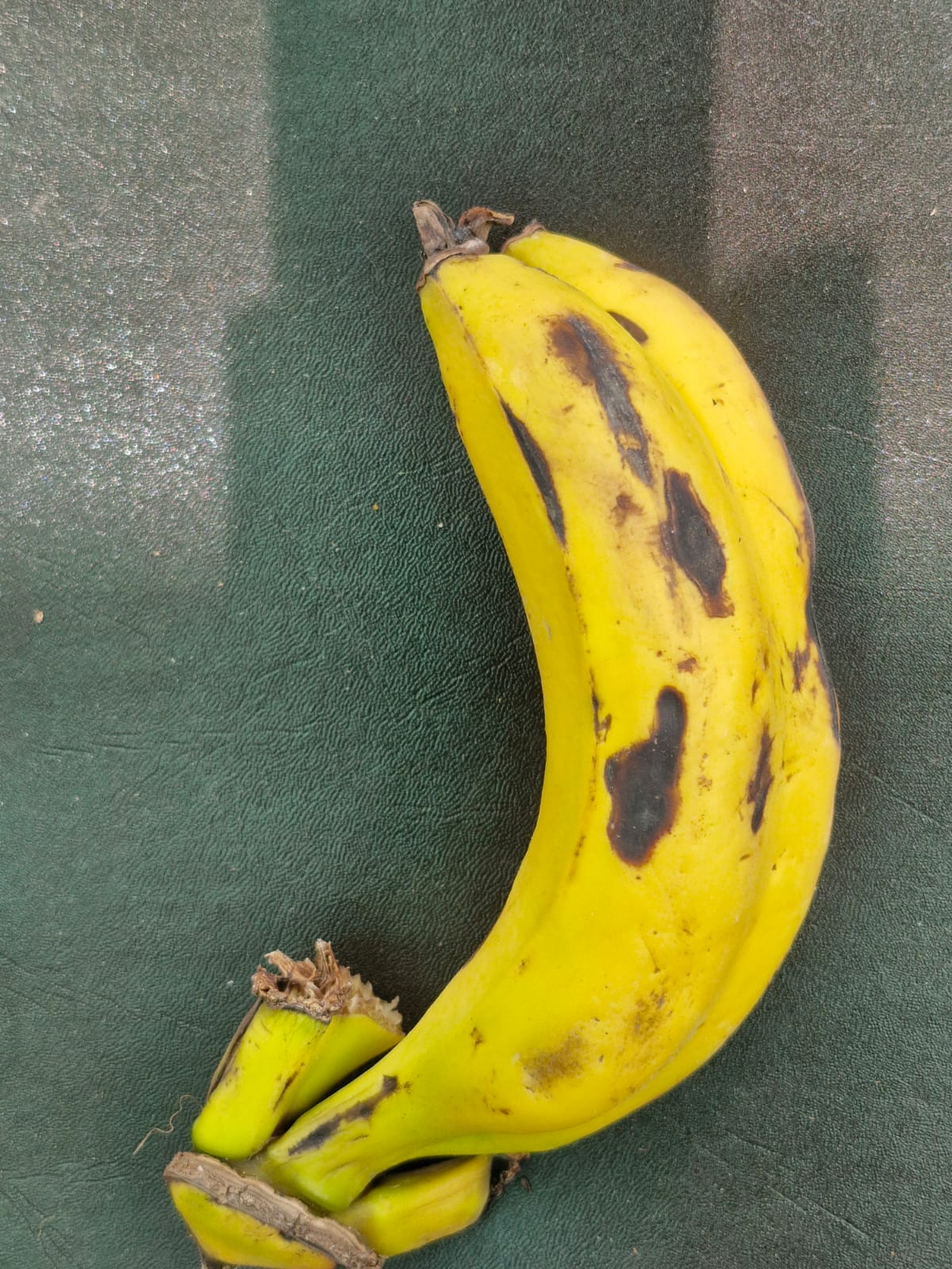banana: (110, 28, 847, 1063)
